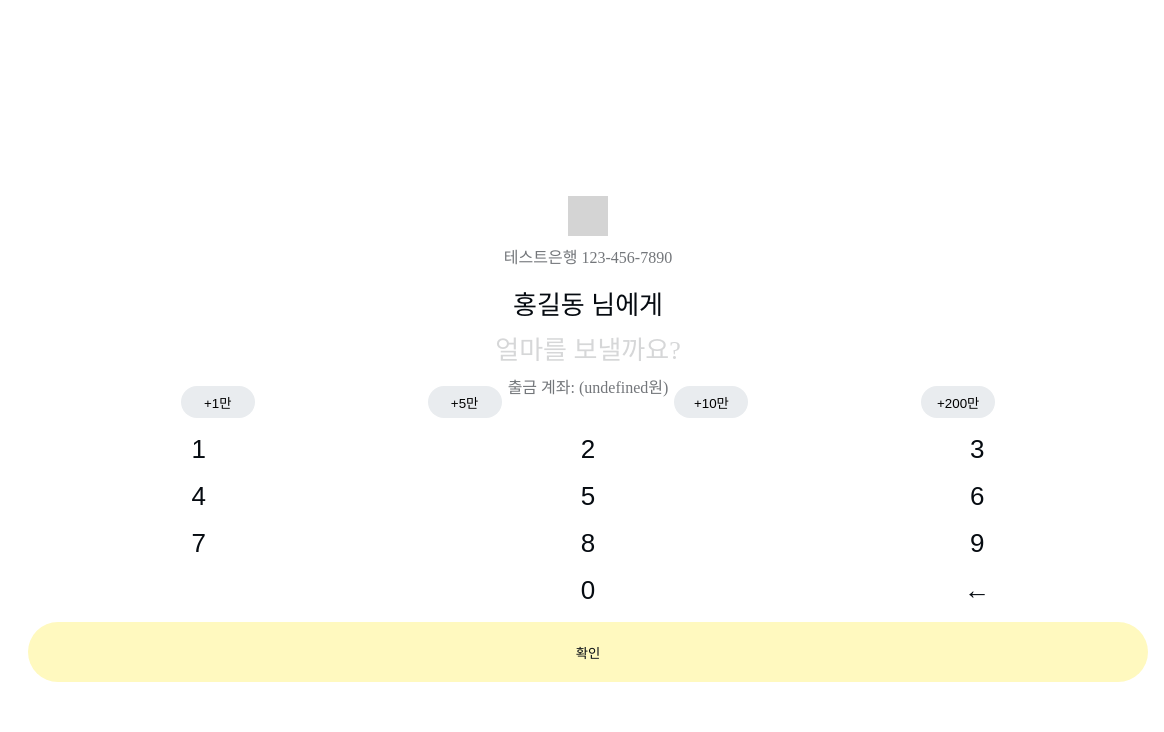
Test: Transfer › 금액 입력 시 천단위 콤마와 함께 {{금액}}원으로 표시된다
# Keypad의 숫자 버튼이 1~9로 렌더링된다고 가정
Click the button "1": (199, 450) [28,434,369,465]
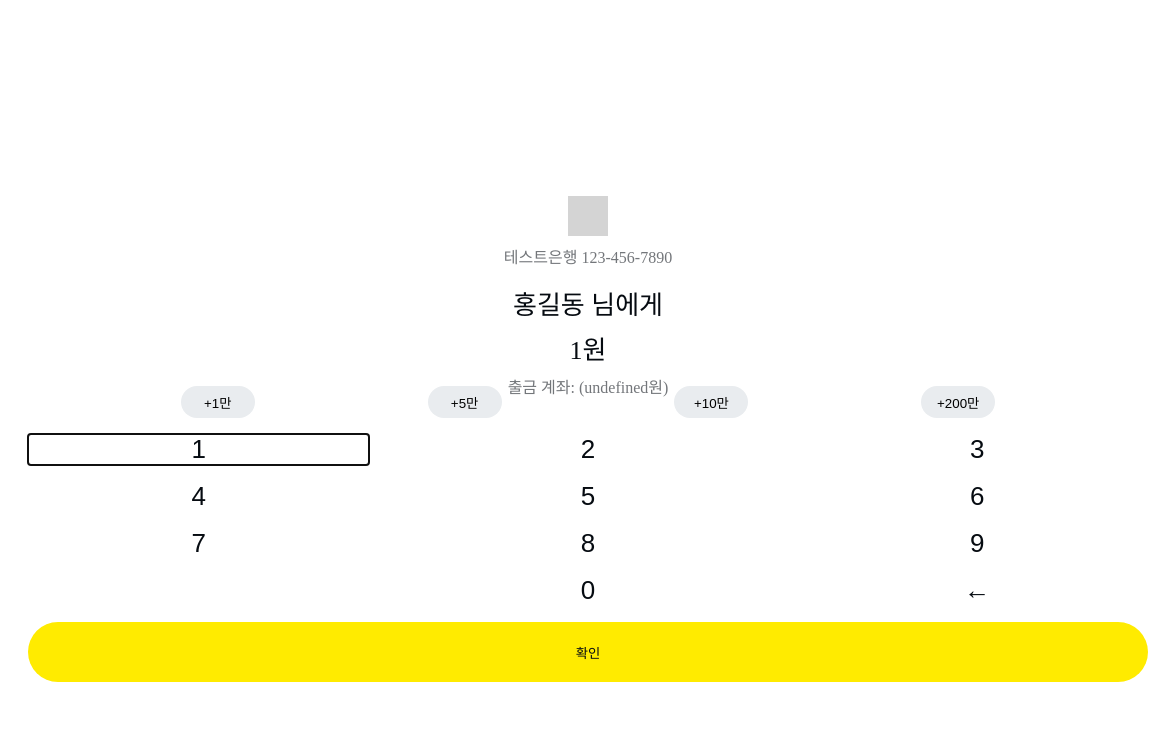
Click the button "0": (588, 590) [417,575,759,606]
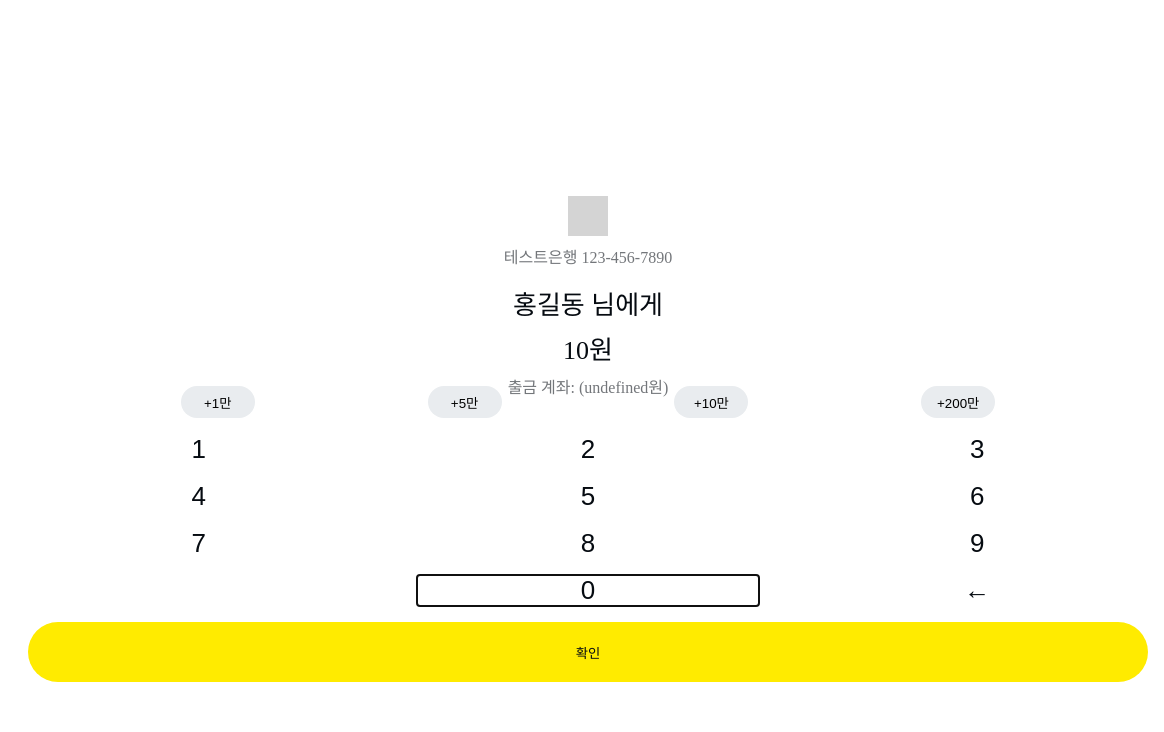
Click the button "0": (588, 590) [417,575,759,606]
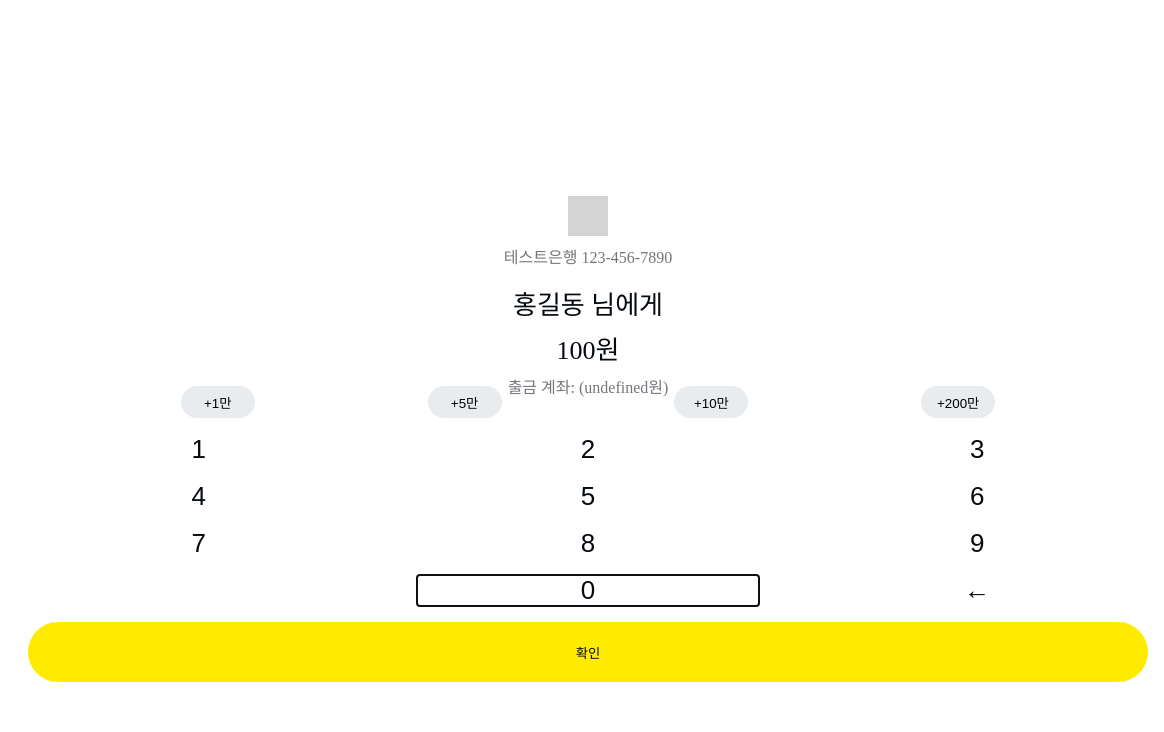
Click the button "0": (588, 590) [417,575,759,606]
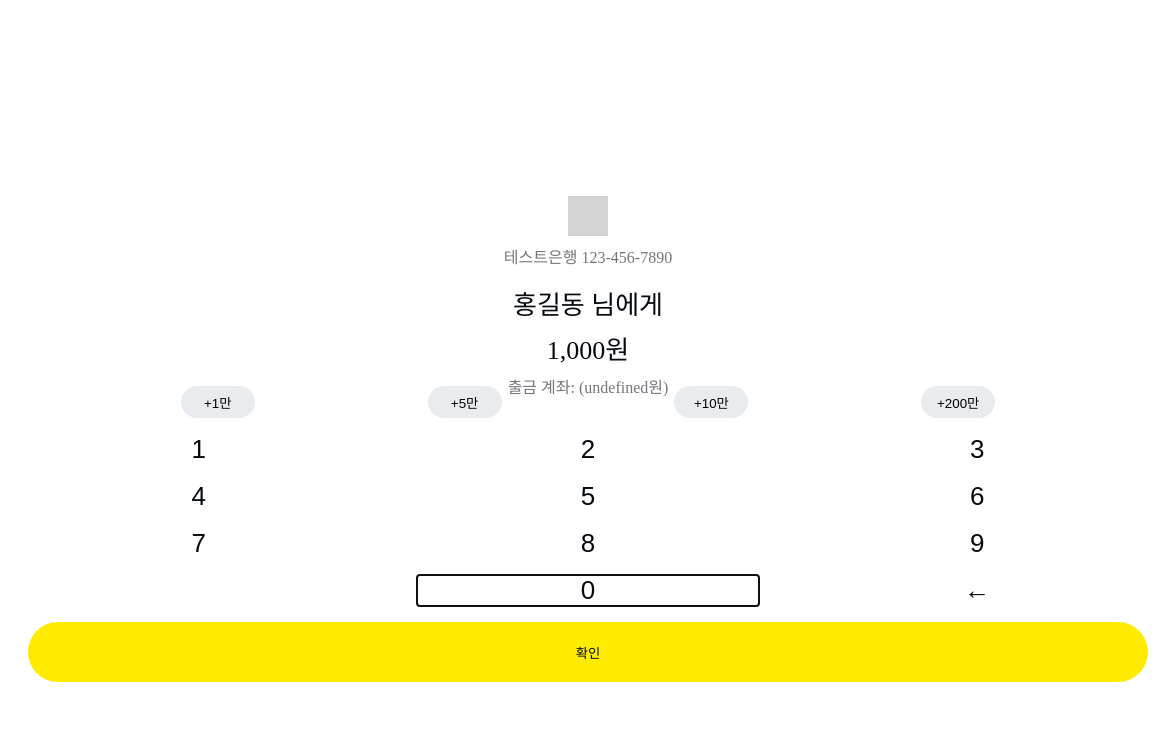
Expected: the text "1,000원" is shown, [547,336,629,365]
